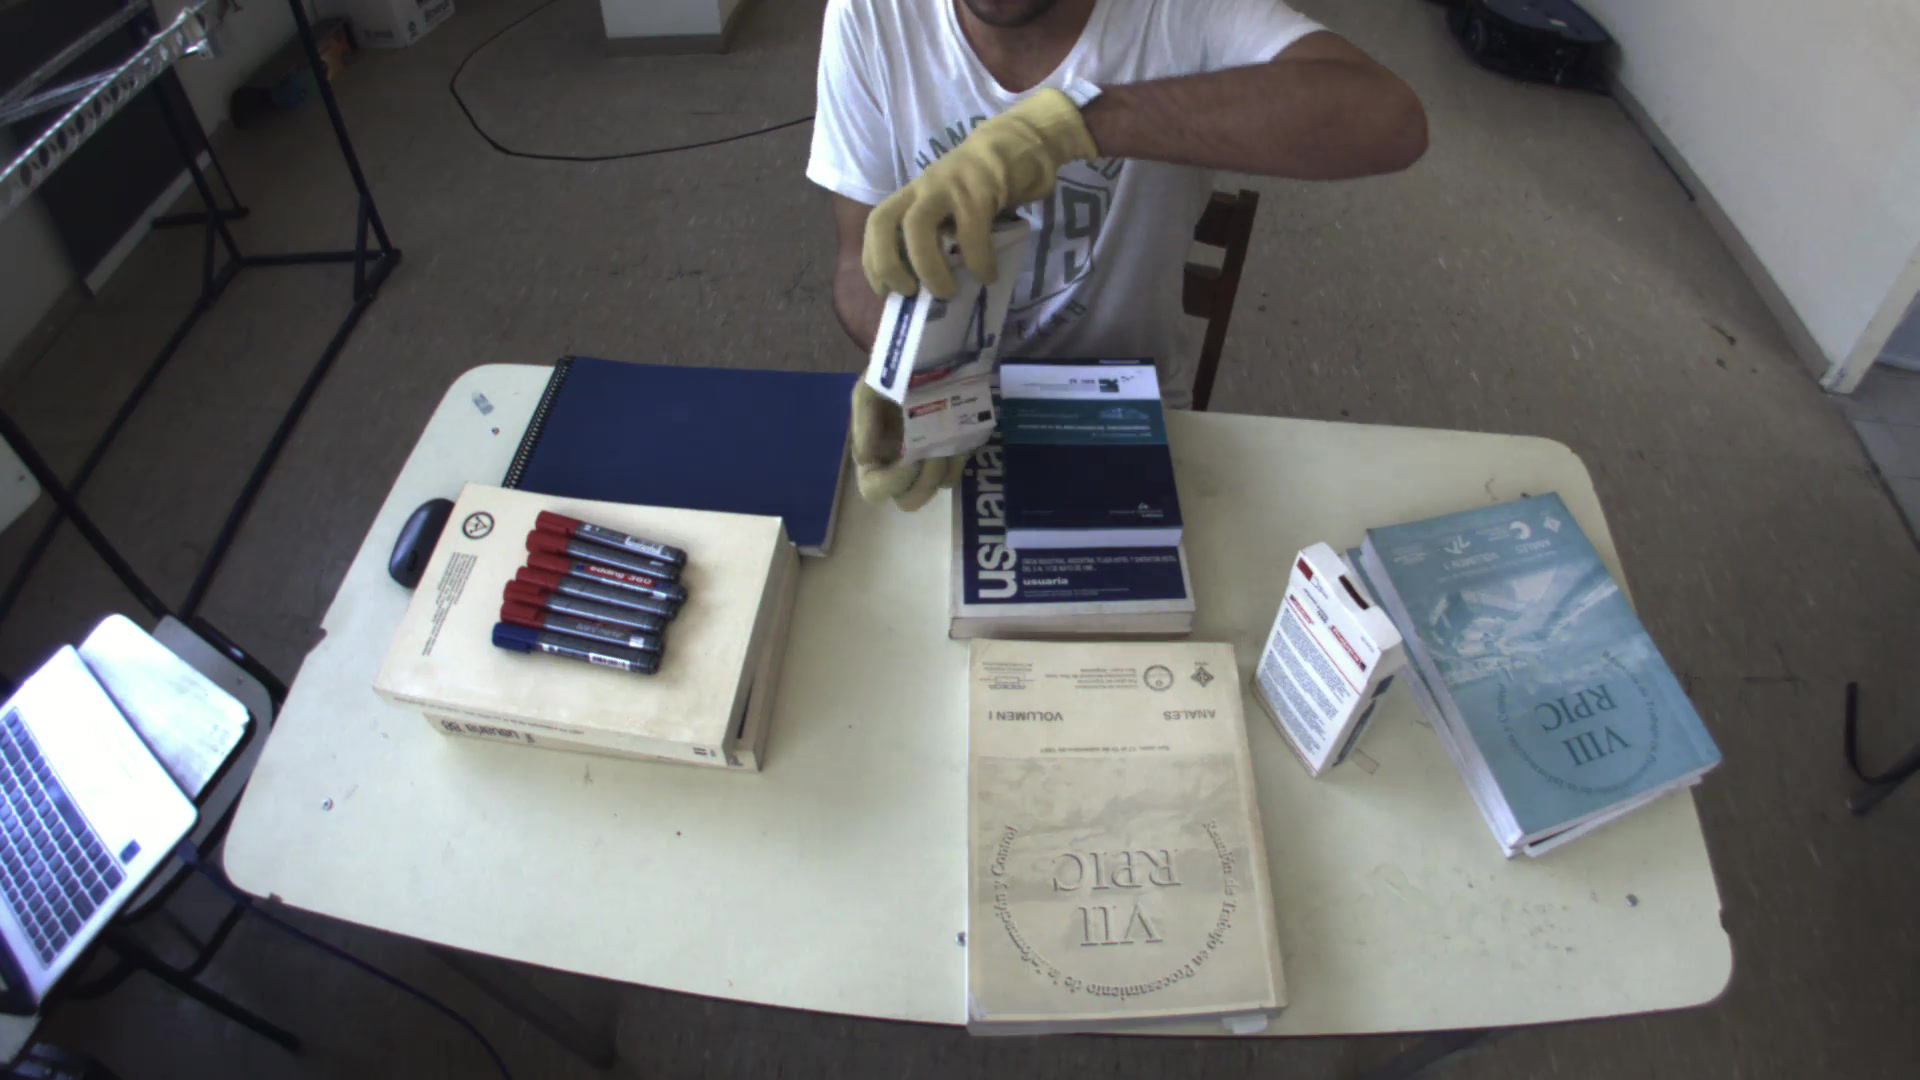hand: (848, 84, 1095, 305), (833, 378, 949, 518)
